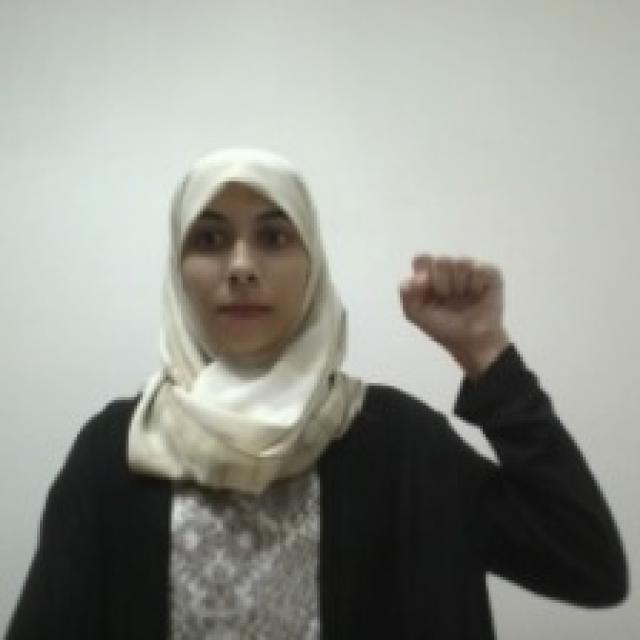yes: (392, 245, 507, 346)
